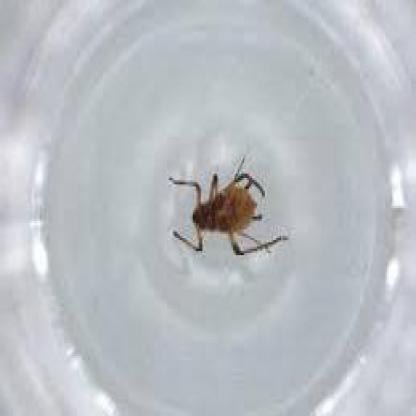uroleucon compositae: (171, 172, 287, 259)
